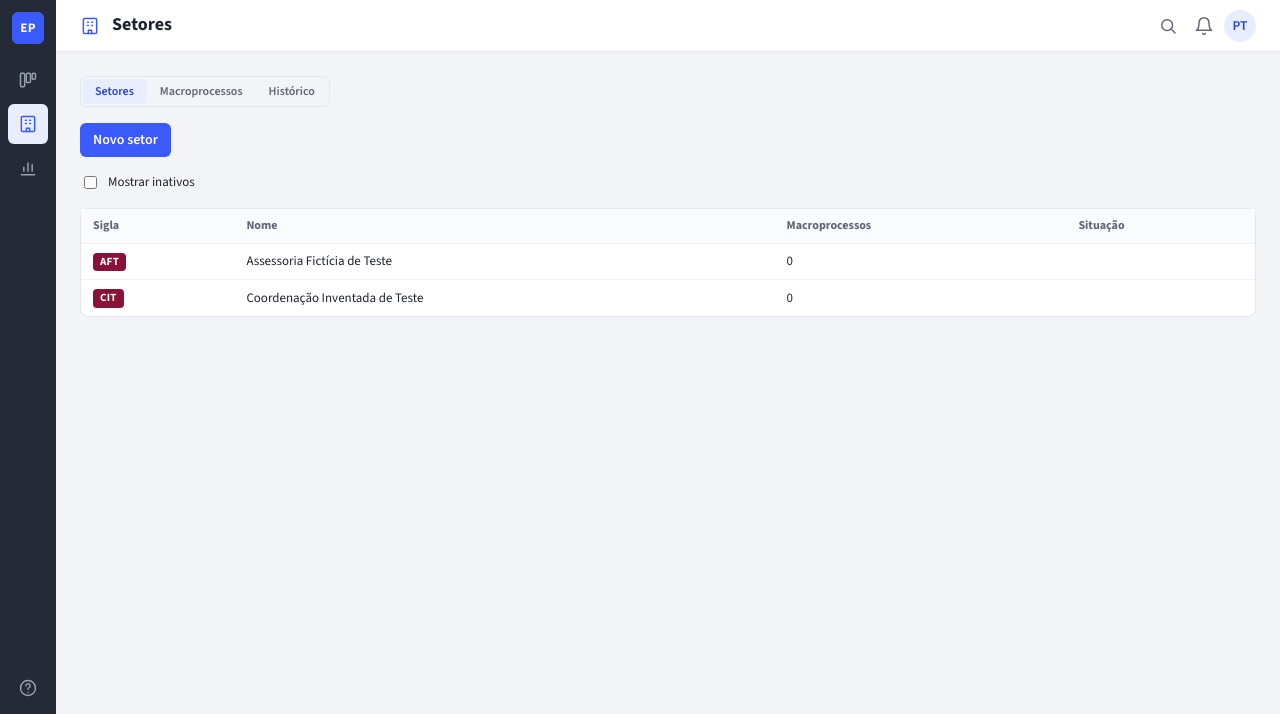
Scenario: Desativar grava na hora, sem confirmação, e o botão passa a ser Reativar
Click the cell "AFT": click(158, 262) top-left (81, 244), bottom-right (234, 280)
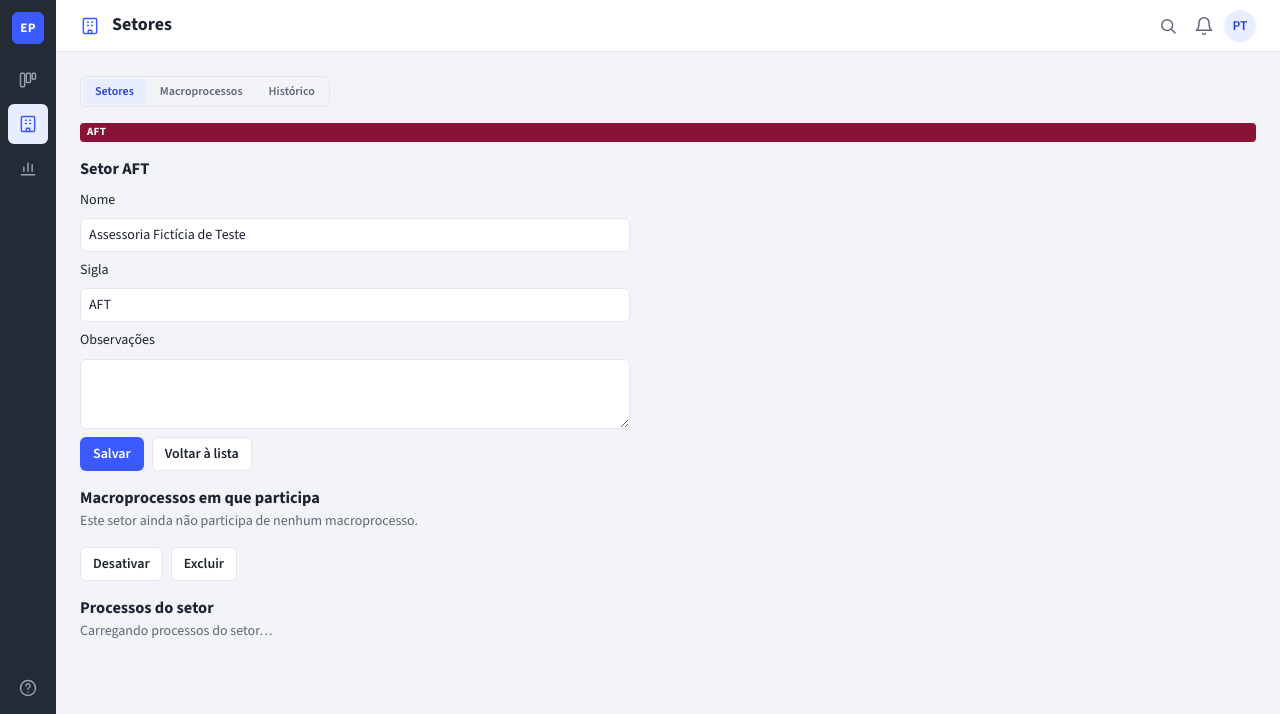
Click the button "Desativar": click(121, 564) top-left (80, 547), bottom-right (163, 581)
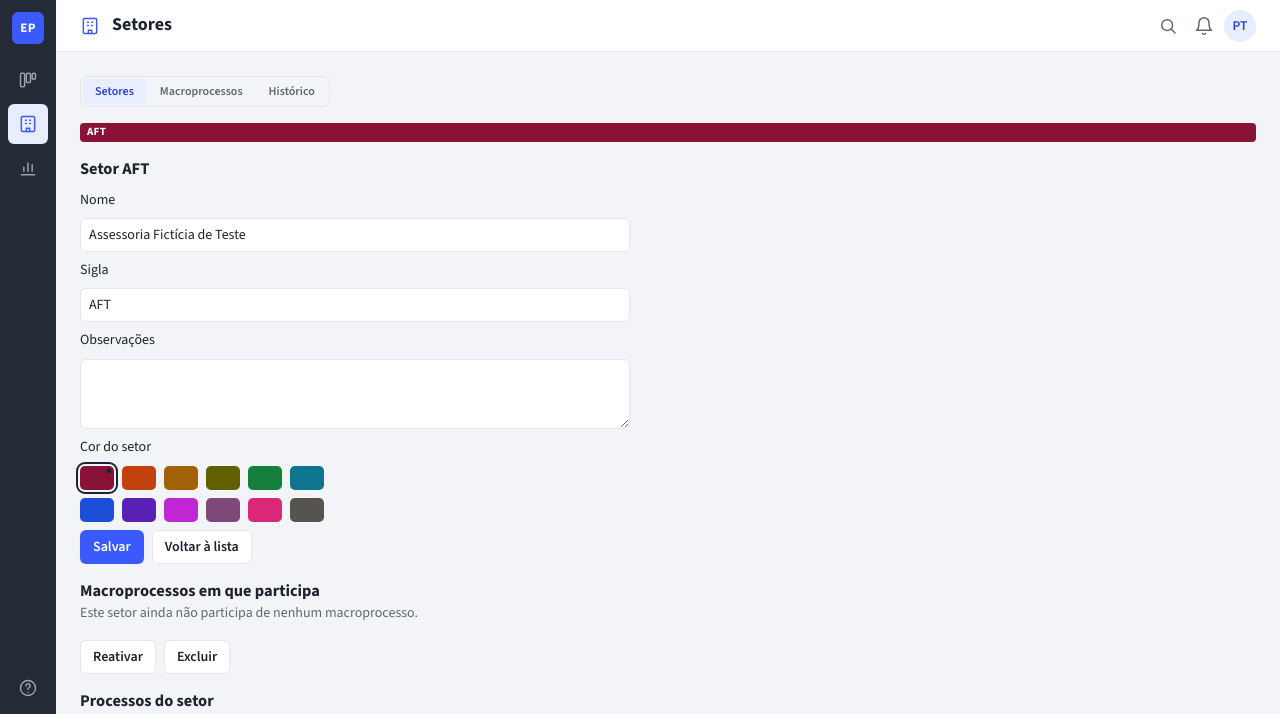
Check: the button "Reativar" is shown, box top-left (80, 640), bottom-right (156, 674)
